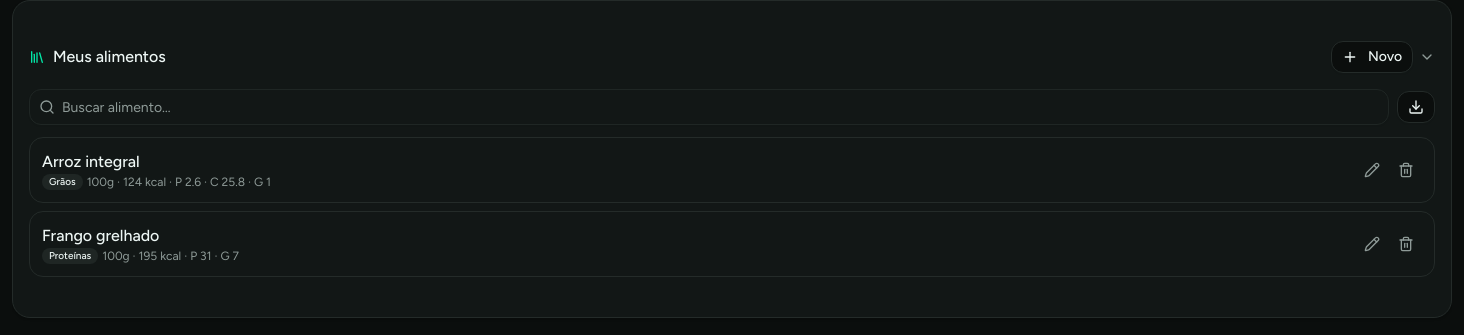
FoodLibrary — integração com supabase (mock) › filtra a lista pela busca
Check: the text "Arroz integral" is shown, box [42,152,140,171]
Type "frango" into the field with placeholder "Buscar alimento…" at (709, 107), box [29,89,1389,125]
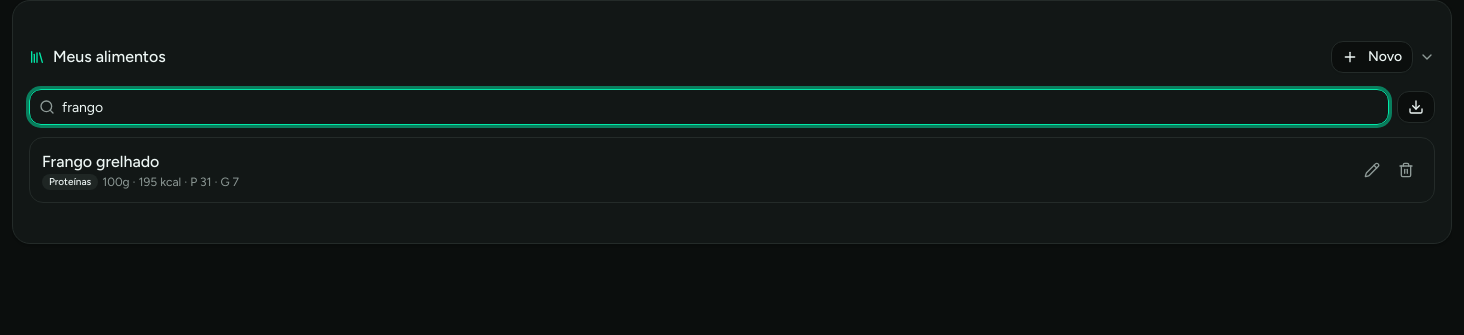
Check: the text "Frango grelhado" is shown, box [42,152,159,171]
Check: the text "Arroz integral" is gone
